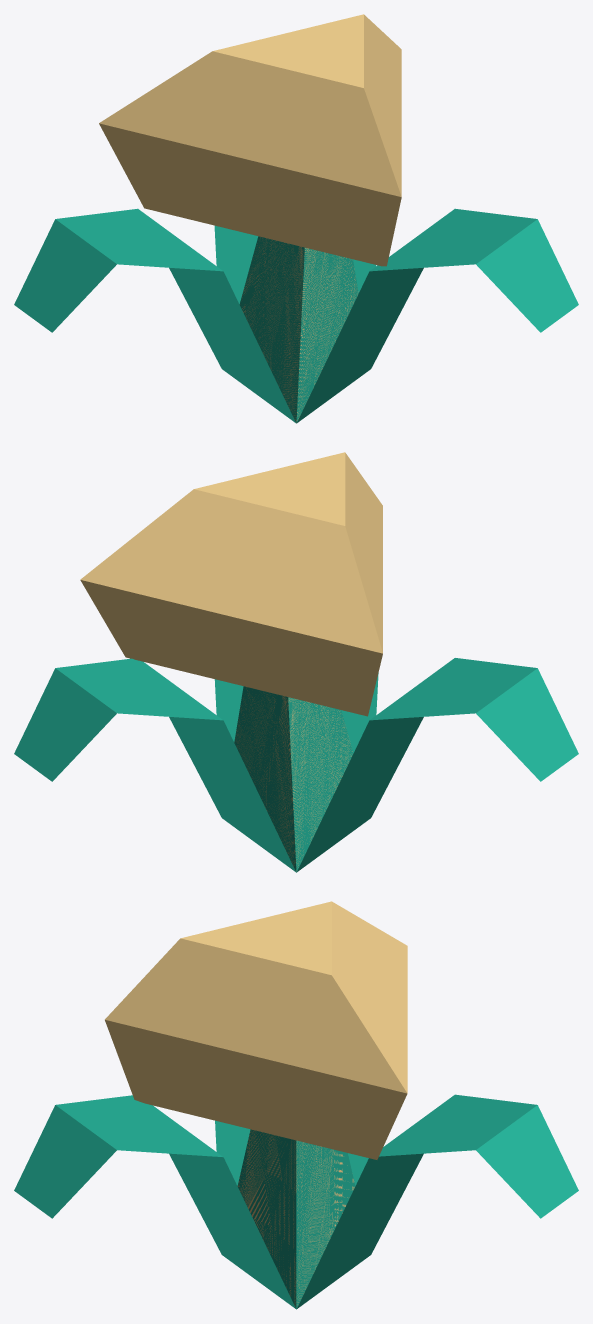
Rendered from flower_yellowB.glb.
The picture shows the model from 3 angles, top to bottom: view 1: azimuth 30°, elevation 25°; view 2: azimuth 150°, elevation 25°; view 3: azimuth 270°, elevation 25°; orthographic projection.
Visible parts, largest first — view 1: flower_yellowB; view 2: flower_yellowB; view 3: flower_yellowB.
Part boxes in pixels (box(x1,y1,x2,y2)): flower_yellowB: box(14, 14, 578, 423); flower_yellowB: box(14, 452, 578, 872); flower_yellowB: box(14, 901, 578, 1309).
Bounding box in the file's own units: 0.2073 × 0.1585 × 0.2392.
